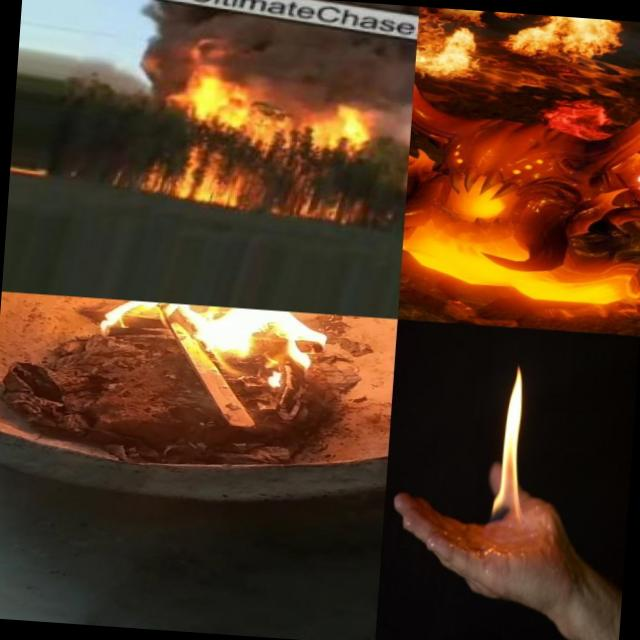fire: (146, 56, 380, 214), (80, 297, 336, 388), (486, 356, 538, 538), (504, 12, 628, 72), (414, 19, 487, 82)
smoke: (133, 0, 194, 58)
